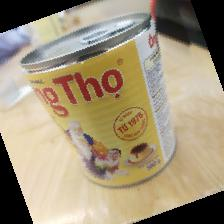Ong_tho: (18, 10, 178, 188)
